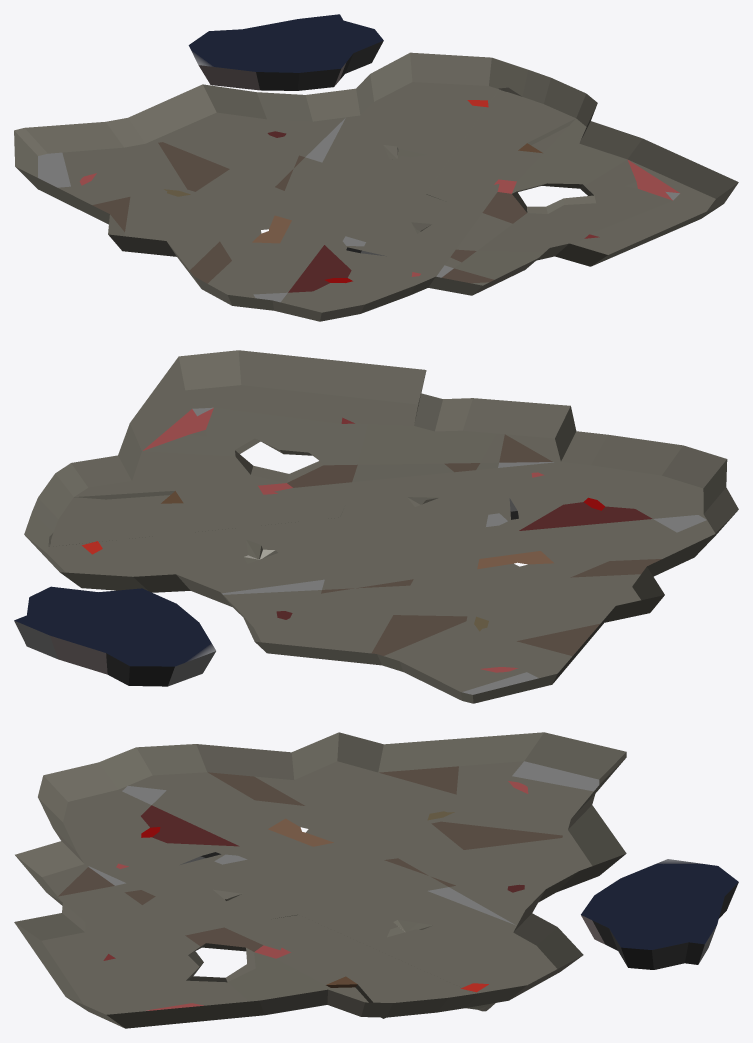
Rendered from plane_piso (1).fbx.
3 renders of one model, top to bottom at view 1: azimuth 30°, elevation 25°; view 2: azimuth 150°, elevation 25°; view 3: azimuth 270°, elevation 25°, orthographic. The views are drawn at different scales.
Parts seen in each view (by area): view 1: Cube.001; view 2: Cube.001; view 3: Cube.001.
Boxes of the visible parts, left/top/right/bottom form: Cube.001: left=14, top=14, right=738, bottom=321; Cube.001: left=14, top=350, right=738, bottom=703; Cube.001: left=14, top=732, right=738, bottom=1028.
Bounding box in the file's own units: 3164 × 164 × 3419.
2 materials, 2 textured.
